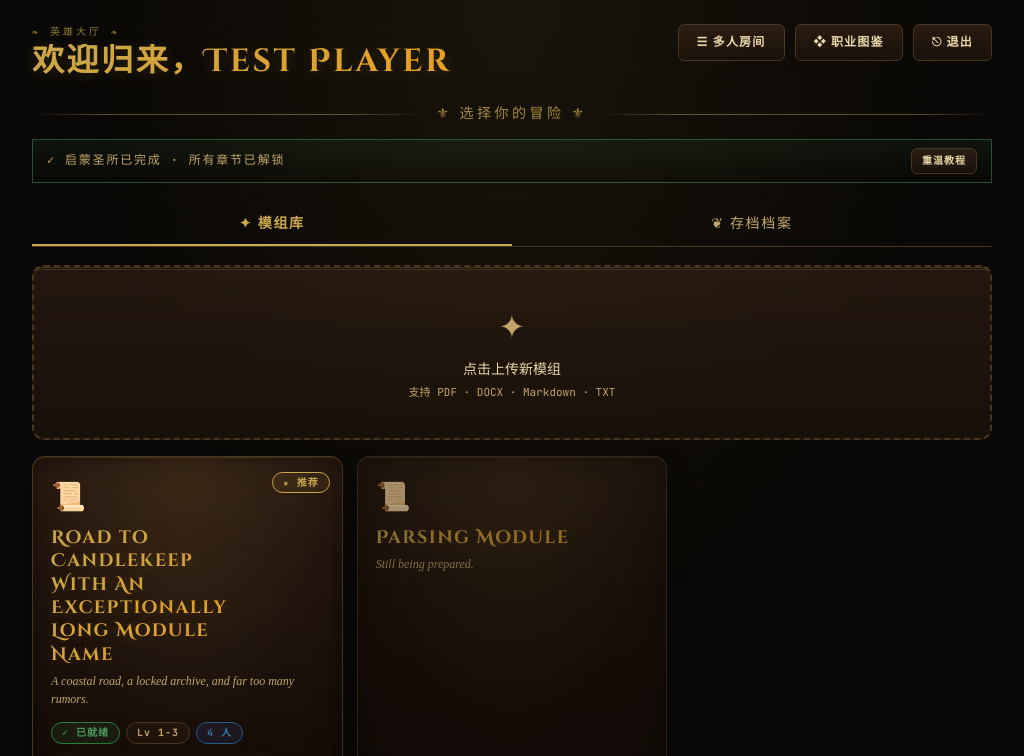
Test case: Home responsive shell › renders save delete failures inline without using a browser alert
Expected: the text "Road to Candlekeep With An Exceptionally Long Module Name" is shown, top-left (51, 526), bottom-right (324, 666)
Click the tab "❦ 存档档案".
click(752, 224)  # box top-left (512, 202), bottom-right (992, 246)
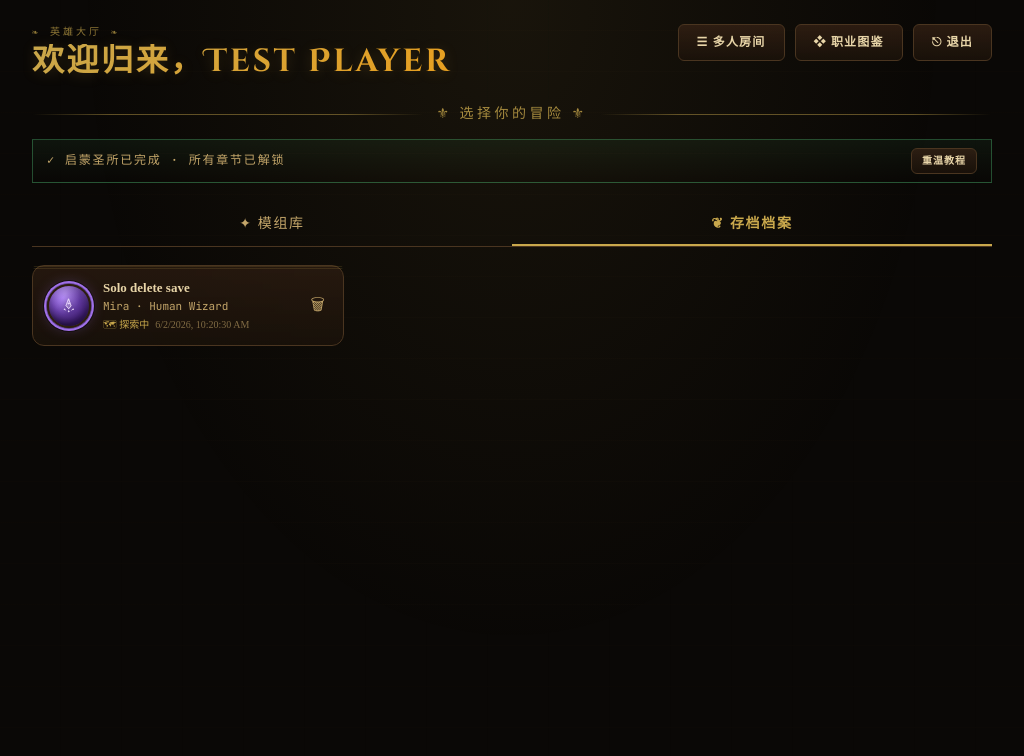
Expected: the text "Solo delete save" is shown, top-left (103, 280), bottom-right (190, 295)
Click the button with class "home-save-action".
click(318, 306)  # box top-left (307, 289), bottom-right (329, 322)
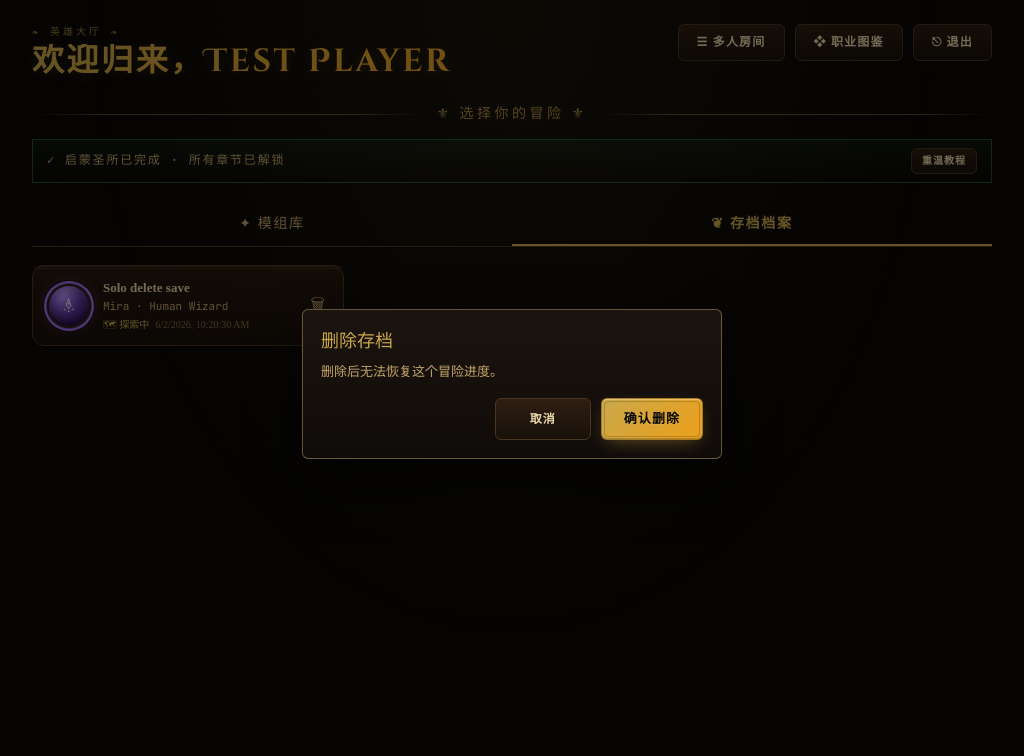
Click the button "确认删除".
click(652, 419)  # box top-left (601, 398), bottom-right (703, 440)
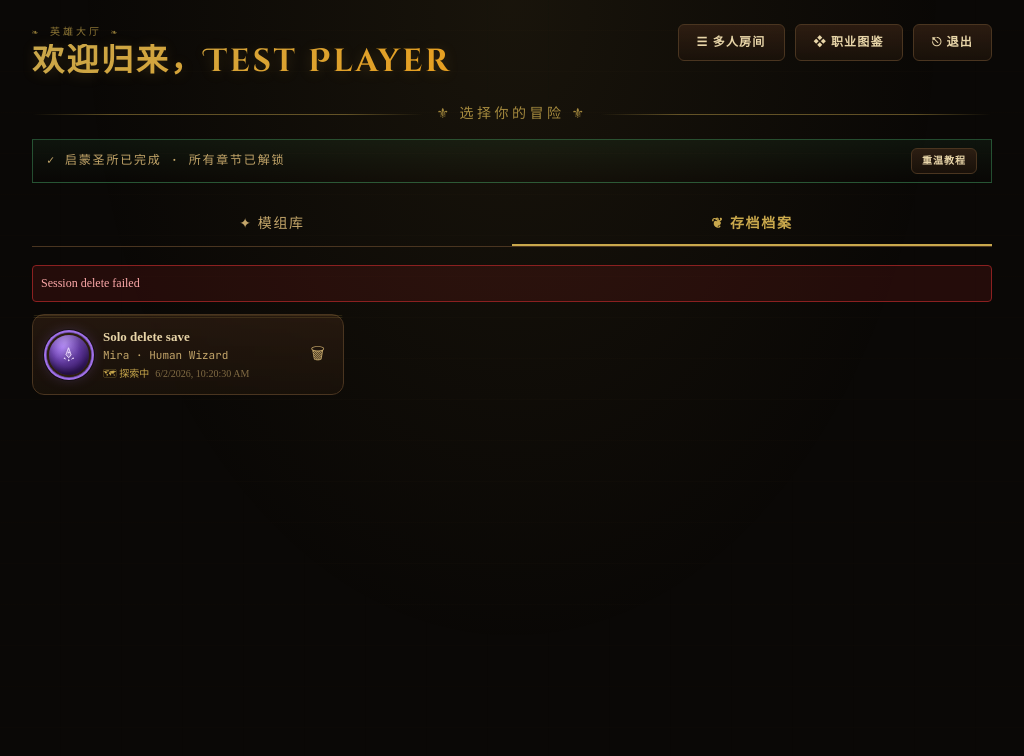
Expected: the message reads "Session delete failed", top-left (41, 276), bottom-right (140, 290)
